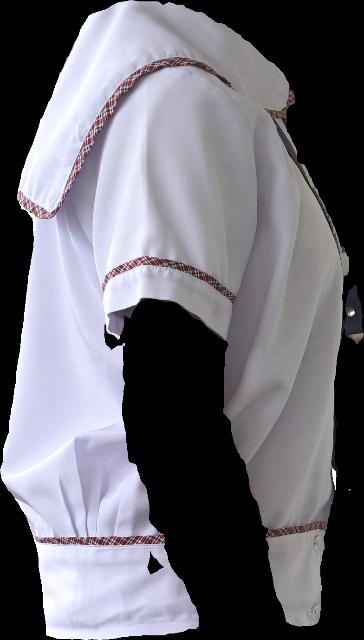pologirl: (0, 0, 349, 639)
